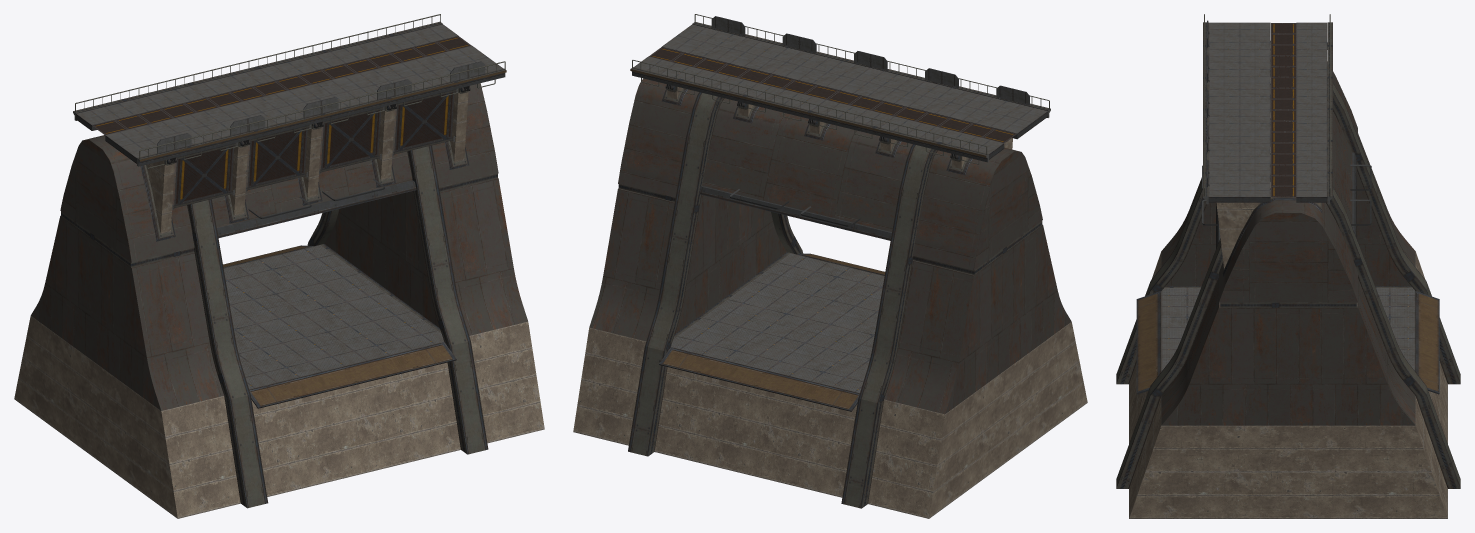
File: Wall1_Gate_L1.fbx
3 views of the same model, side by side, from view 1: azimuth 30°, elevation 25°; view 2: azimuth 150°, elevation 25°; view 3: azimuth 270°, elevation 25° (orthographic). The views are drawn at different scales.
Visible parts, largest first — view 1: polySurface918; view 2: polySurface918; view 3: polySurface918.
Part boxes in pixels (box(x1,y1,x2,y2)): polySurface918: box(14, 14, 544, 518); polySurface918: box(573, 14, 1087, 518); polySurface918: box(1116, 14, 1460, 518).
Size of the model in its own units: 4000 by 3585 by 3338.
